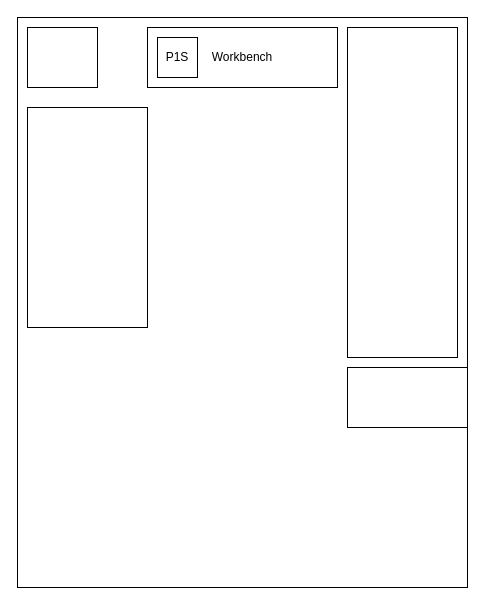
Image size: 485x605. Some labels were removed from this diagram. The box of each missing label's shape, as (x1, y1, x2, y2) in pixels:
Desk: (26, 106, 148, 328)
Filing cabnet: (26, 26, 98, 88)
